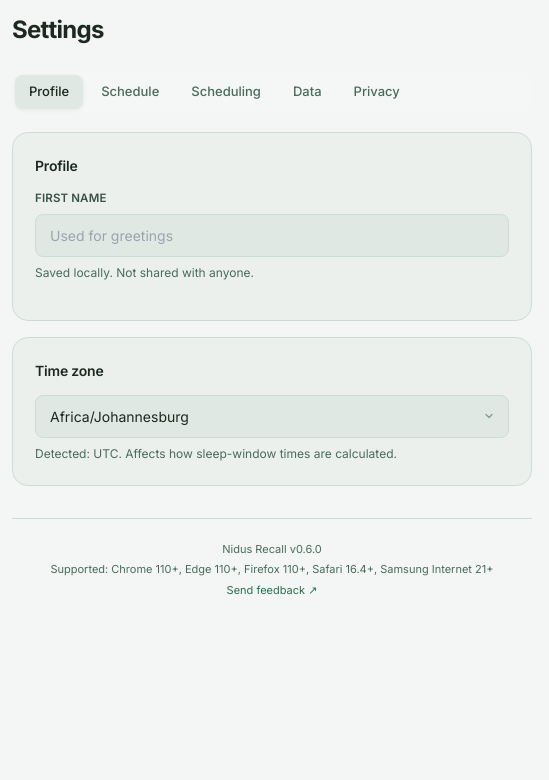
Test: SettingsView — tabs › renders schedule tab with daily limits when clicked
Click the button "Schedule" at (130,92), box top-left (87, 75), bottom-right (173, 108)
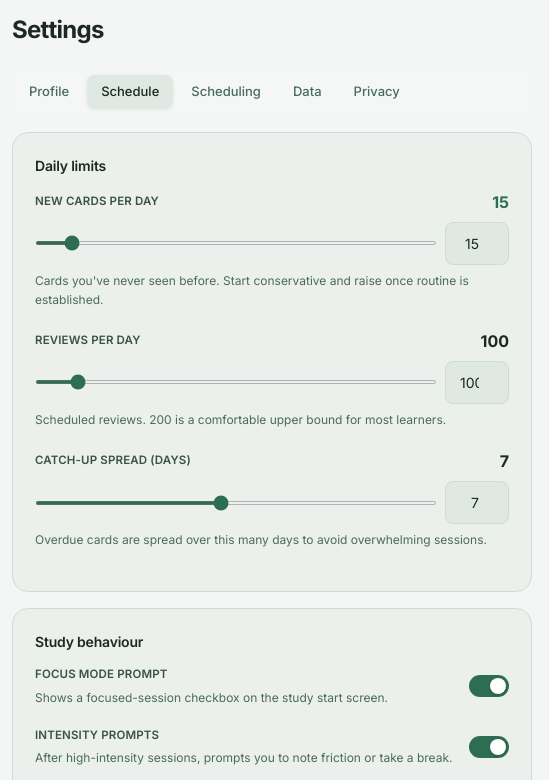
Result: the text "Daily limits" is shown at top-left (35, 156), bottom-right (106, 174)
Result: the text "New cards per day" is shown at top-left (35, 193), bottom-right (159, 210)
